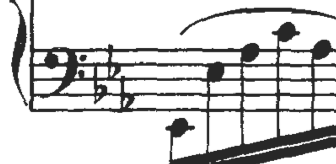bass_clef: (34, 40, 89, 106)
flat: (87, 62, 111, 108), (116, 74, 138, 118), (103, 42, 122, 84)
